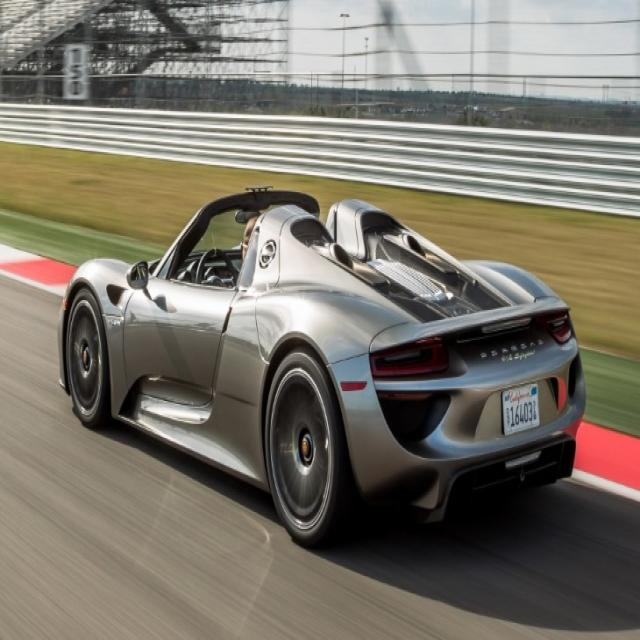car: (56, 185, 587, 547)
